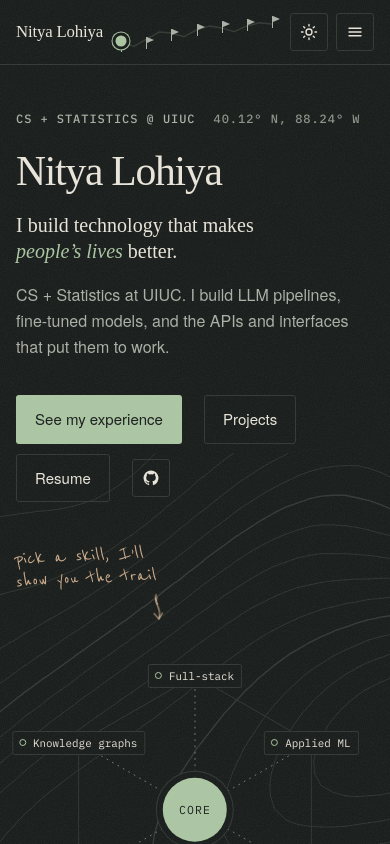
Test case: App › opens and closes the mobile menu with an accessible state
Click the button named "Open menu" at (355, 32), box x1=336 y1=13 x2=374 y2=51
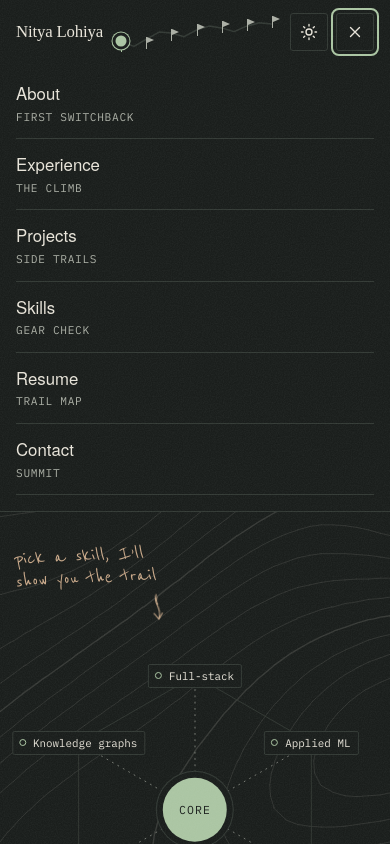
Expected: the button named "Open menu" is expanded, x1=336 y1=13 x2=374 y2=51
Press Escape
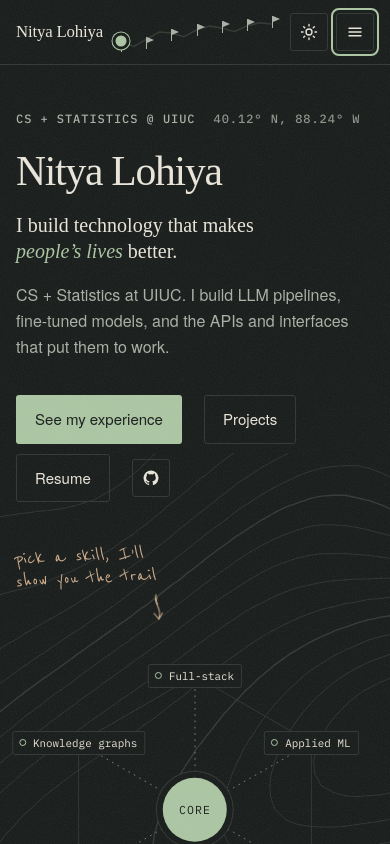
Expected: the button named "Open menu" is collapsed, x1=336 y1=13 x2=374 y2=51
